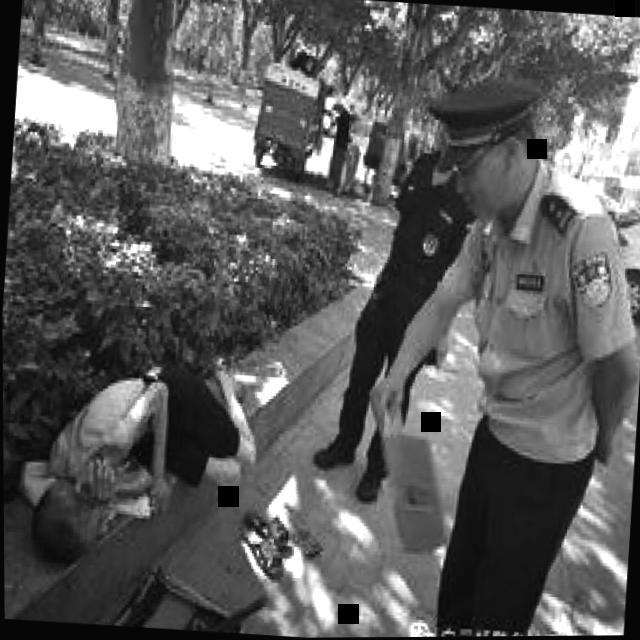Fall-Detected: (8, 331, 274, 577)
